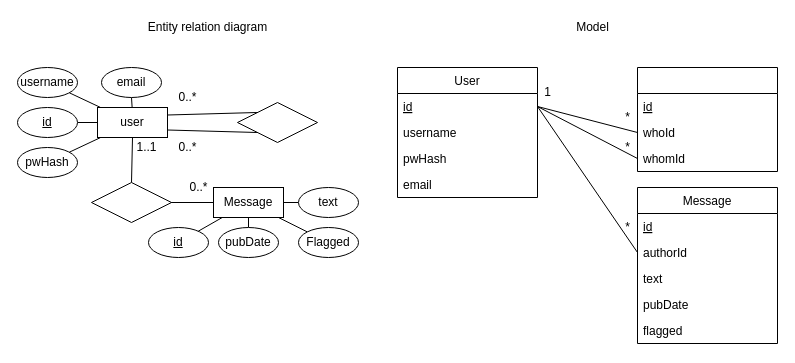
Image size: 795x363. Some labels were removed from this diagram. Here are the shapes that lost their labels. From the top down, the box of each, then its label:
(236, 102, 318, 142): follows
(636, 66, 778, 172): Follower
(90, 182, 172, 222): writes
